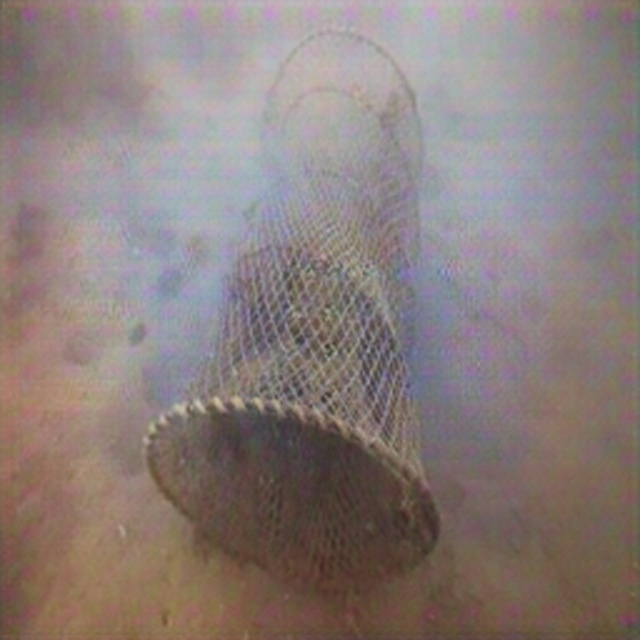mine: (142, 26, 441, 592)
